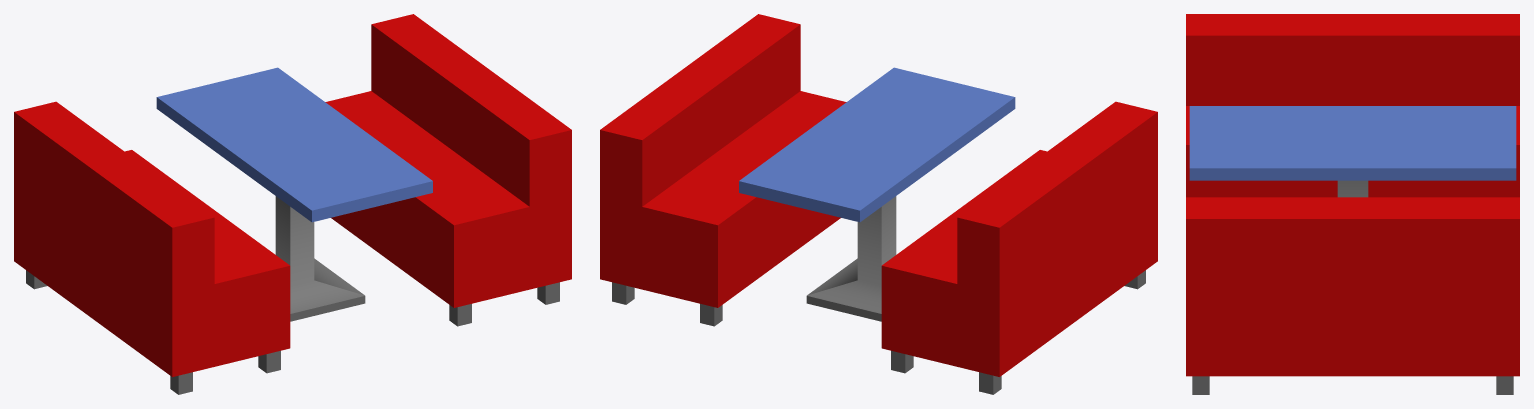
Rendered from mesa.fbx.
3 views of the same model, side by side, from view 1: azimuth 30°, elevation 25°; view 2: azimuth 150°, elevation 25°; view 3: azimuth 270°, elevation 25° (orthographic). The views are drawn at different scales.
Visible parts, largest first — view 1: pCube10; view 2: pCube10; view 3: pCube10.
Boxes of the visible parts, x1,y1,x2,y2 form: pCube10: (14, 14, 571, 394); pCube10: (600, 14, 1157, 394); pCube10: (1186, 14, 1519, 394).
Size of the model in its own units: 5.05 by 2.08 by 3.47.
